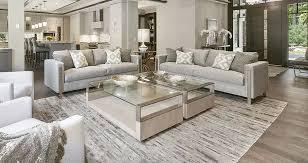chair: (0, 95, 86, 163), (0, 68, 38, 101), (290, 44, 308, 78), (31, 33, 47, 68), (27, 36, 33, 64), (23, 35, 29, 62)
light: (136, 29, 155, 53), (77, 33, 89, 49), (42, 1, 48, 29), (89, 33, 99, 49), (25, 13, 30, 30), (31, 2, 34, 30), (35, 4, 38, 32), (52, 1, 61, 9)
sofa: (155, 43, 269, 105), (39, 52, 139, 90)
table: (81, 75, 185, 139), (130, 67, 217, 118), (36, 40, 74, 61), (133, 51, 159, 75), (203, 43, 233, 53)
